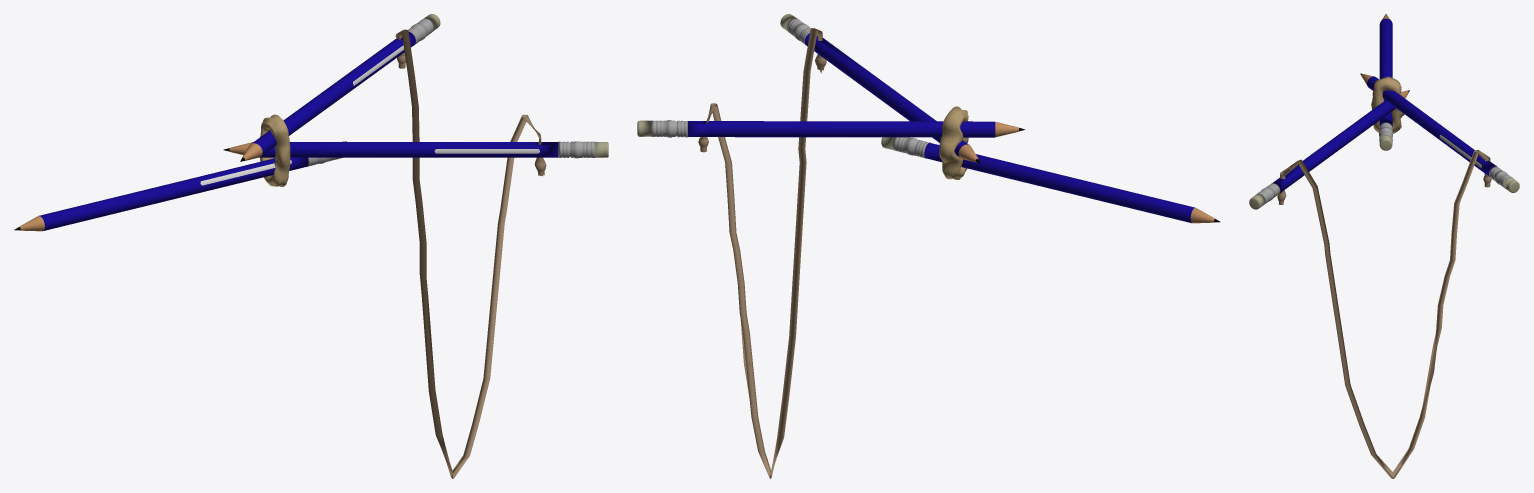
Rendered from tirachinas_animacion_lanzar2.fbx.
3 renders of one model, left to right at view 1: azimuth 30°, elevation 25°; view 2: azimuth 150°, elevation 25°; view 3: azimuth 270°, elevation 25°, orthographic. The views are drawn at different scales.
Parts seen in each view (by area): view 1: Torus.001, Cylinder.001; view 2: Torus.001, Cylinder.001; view 3: Torus.001, Cylinder.001.
Part boxes in pixels (x1,y1,x2,y2): Torus.001: (14, 14, 608, 231); Cylinder.001: (395, 29, 546, 478); Torus.001: (637, 14, 1220, 223); Cylinder.001: (698, 28, 826, 478); Torus.001: (1249, 14, 1519, 209); Cylinder.001: (1277, 150, 1491, 478).
Bounding box in the file's own units: 1378 × 1045 × 776.
